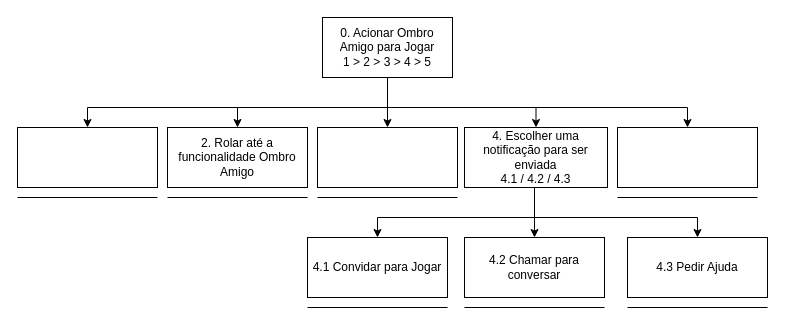
This 786x326 diagram has some shape labels left out. The centre of each missing label's shape, as x and y in pixels:
"1. Abrir Aplicativo" goes at (87,157).
"3. Apertar o Botão" goes at (387,157).
"5. Aguardar interação do Ombro Amigo" goes at (687,157).
